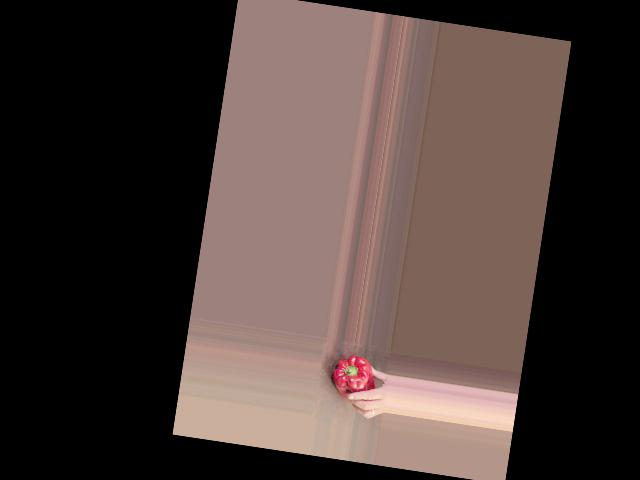bell_pepper: (329, 351, 377, 401)
